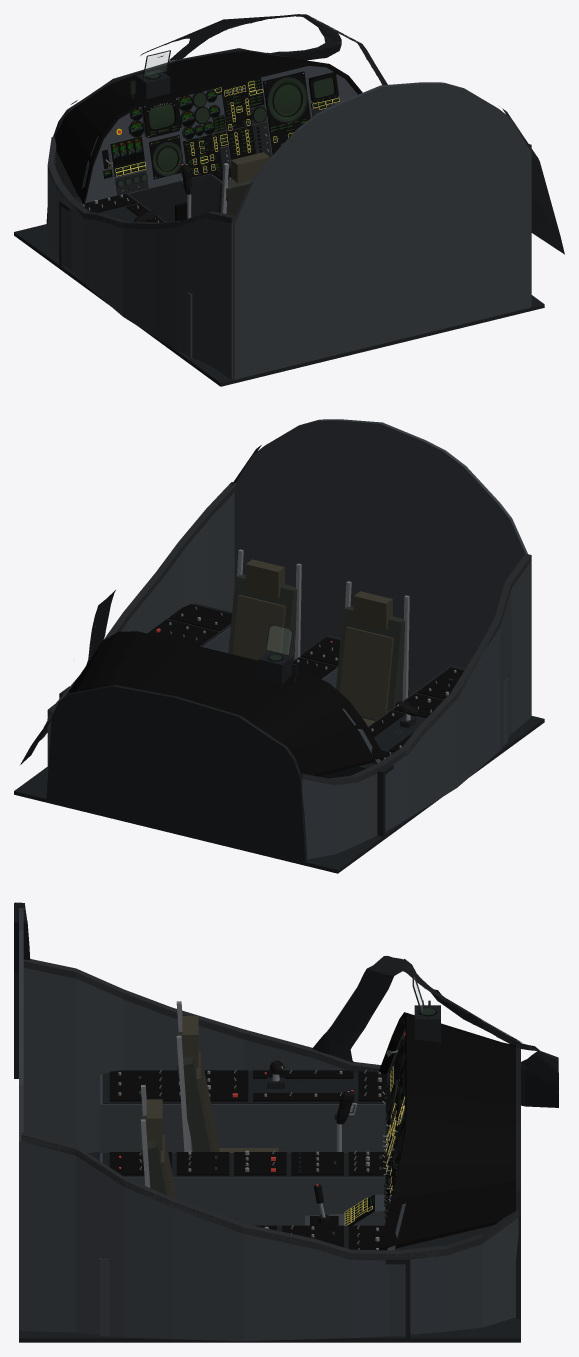
Rendered from cockpit_a6.glb.
3 renders of one model, top to bottom at view 1: azimuth 30°, elevation 25°; view 2: azimuth 150°, elevation 25°; view 3: azimuth 270°, elevation 25°, orthographic. The views are drawn at different scales.
Parts seen in each view (by area): view 1: panel_grey.002, panel_grey, black, frame.002, panel_grey.003, dark, dark.002, frame, screen_dvri, dark.001, black.021, panel_grey.004 (+11 smaller); view 2: panel_grey.002, dark.001, panel_grey, black, panel_grey.001, cushion_96, dark, frame, cushion_96.001, frame.001, seat_95, seat_95.001 (+12 smaller); view 3: panel_grey.001, black, panel_grey, panel_grey.004, panel_grey.005, frame.002, frame.001, dark, frame, dark.004, black.005, panel_grey.006 (+23 smaller).
Part boxes in pixels (x1,y1,x2,y2): panel_grey.002: [233, 82, 530, 379]; panel_grey: [47, 158, 235, 379]; black: [55, 51, 362, 206]; frame.002: [66, 14, 564, 254]; panel_grey.003: [78, 66, 357, 204]; dark: [14, 224, 544, 386]; dark.002: [59, 179, 202, 266]; frame: [47, 136, 236, 229]; screen_dvri: [269, 78, 306, 121]; dark.001: [46, 48, 285, 224]; black.021: [183, 133, 222, 177]; panel_grey.004: [65, 195, 192, 357]; panel_grey.002: [234, 419, 527, 689]; dark.001: [46, 685, 307, 863]; panel_grey: [301, 557, 531, 859]; black: [66, 631, 384, 776]; panel_grey.001: [47, 492, 234, 777]; cushion_96: [340, 626, 393, 719]; dark: [14, 659, 544, 873]; frame: [299, 554, 531, 785]; cushion_96.001: [232, 595, 285, 660]; frame.001: [47, 482, 236, 716]; seat_95: [336, 606, 405, 720]; seat_95.001: [228, 574, 297, 660]; panel_grey.001: [21, 1135, 518, 1341]; black: [379, 1012, 515, 1250]; panel_grey: [23, 968, 346, 1152]; panel_grey.004: [100, 1074, 385, 1153]; panel_grey.005: [100, 1153, 385, 1225]; frame.002: [14, 902, 558, 1107]; frame.001: [21, 1132, 518, 1260]; dark: [19, 1152, 520, 1342]; frame: [23, 959, 380, 1072]; dark.004: [102, 1071, 385, 1103]; black.005: [109, 1070, 180, 1101]; panel_grey.006: [100, 1258, 405, 1336].
Bounding box in the file's own units: 2.12 × 1.47 × 2.3.
Materials: 24 (1 with a texture image).
